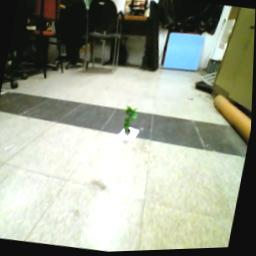herb: (120, 106, 141, 137)
